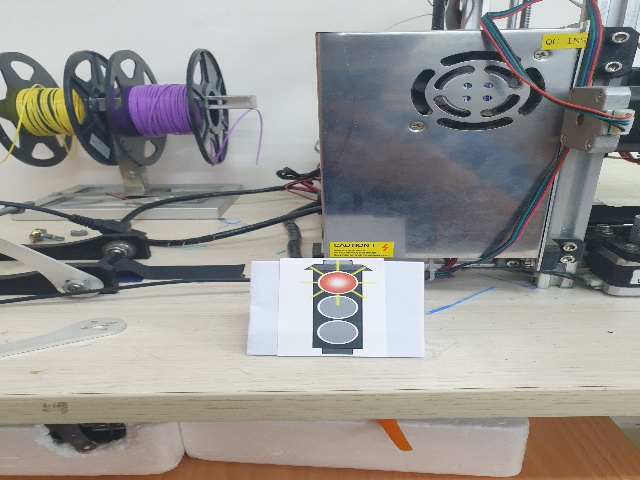Red Light: (297, 260, 380, 357)
